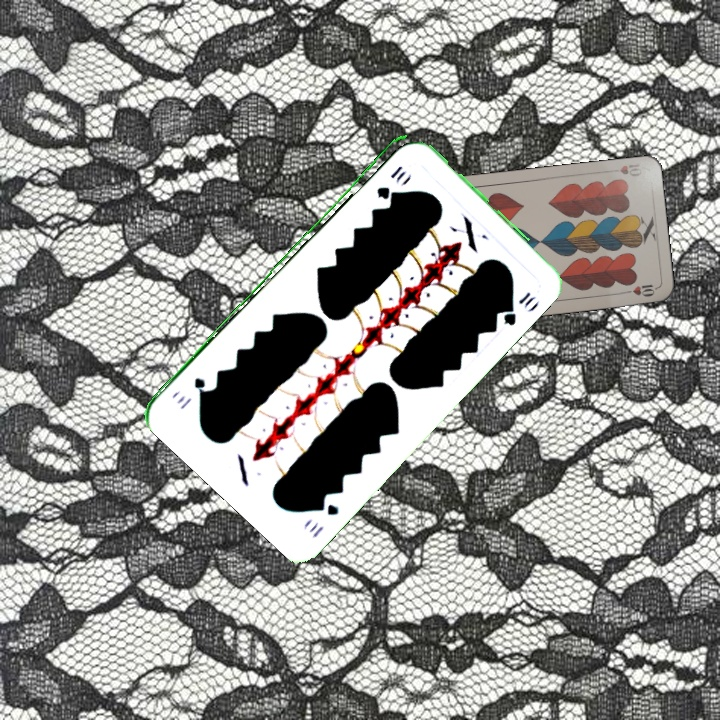G10: (306, 496, 342, 540), (372, 161, 405, 201)
H10: (605, 159, 644, 179)
